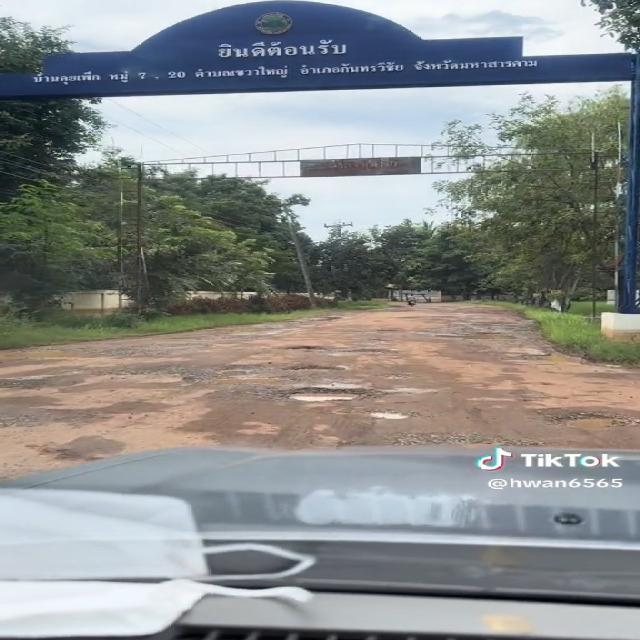Poth-hole: (81, 380, 248, 428)
